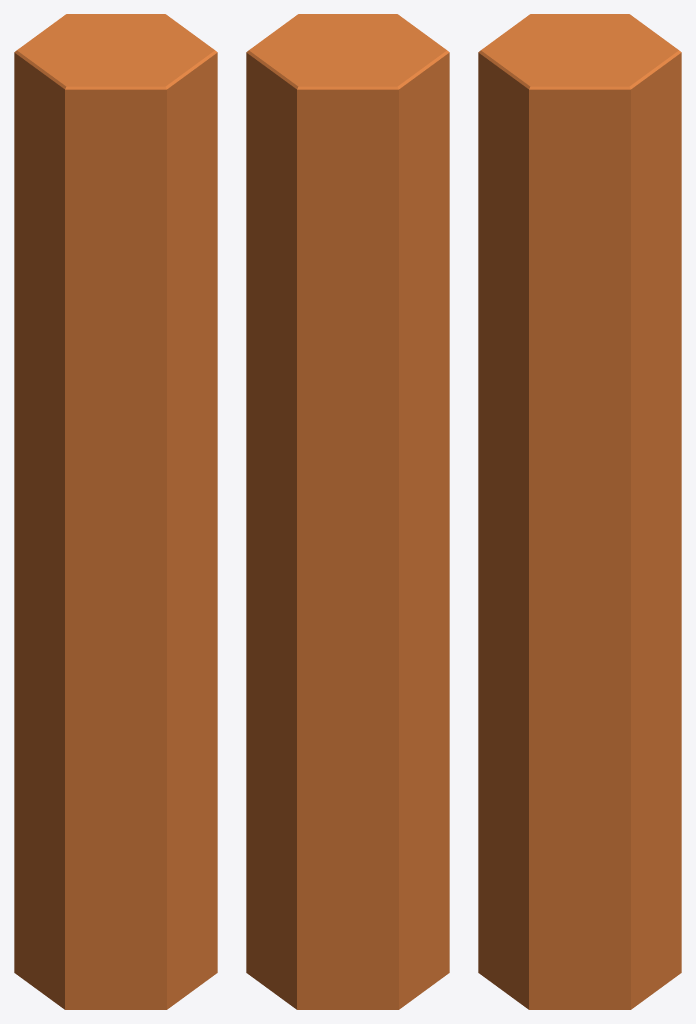
The model's file is hex_dirt_plain.glb.
3 views of the same model, side by side, from view 1: azimuth 30°, elevation 25°; view 2: azimuth 150°, elevation 25°; view 3: azimuth 270°, elevation 25° (orthographic).
Visible parts, largest first — view 1: Hex; view 2: Hex; view 3: Hex.
Boxes of the visible parts, x1=… form: Hex: x1=14, y1=14, x2=217, y2=1009; Hex: x1=246, y1=14, x2=449, y2=1009; Hex: x1=478, y1=14, x2=681, y2=1009.
Size of the model in its own units: 1.73 by 10 by 2.
